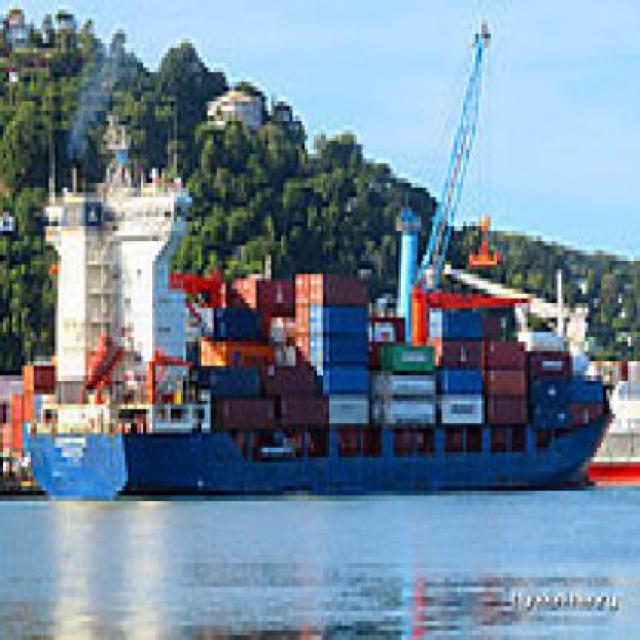container: (7, 11, 623, 517), (22, 151, 620, 517), (334, 10, 337, 107)
